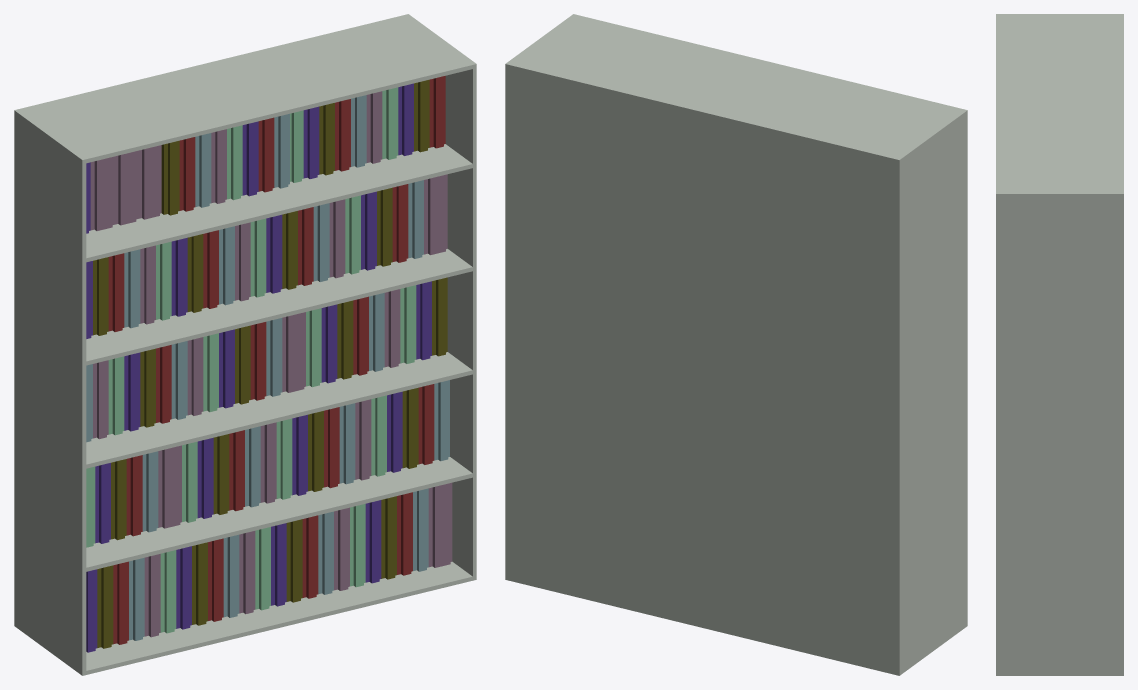
Rendered from Bookshelf2.fbx.
3 views of the same model, side by side, from view 1: azimuth 30°, elevation 25°; view 2: azimuth 150°, elevation 25°; view 3: azimuth 270°, elevation 25° (orthographic). The views are drawn at different scales.
Parts seen in each view (by area): view 1: Bookshelf2; view 2: Bookshelf2; view 3: Bookshelf2.
Part boxes in pixels (x1,y1,x2,y2): Bookshelf2: [14, 14, 476, 675]; Bookshelf2: [505, 14, 967, 675]; Bookshelf2: [996, 14, 1123, 675].
Size of the model in its own units: 10 by 12.5 by 3.
